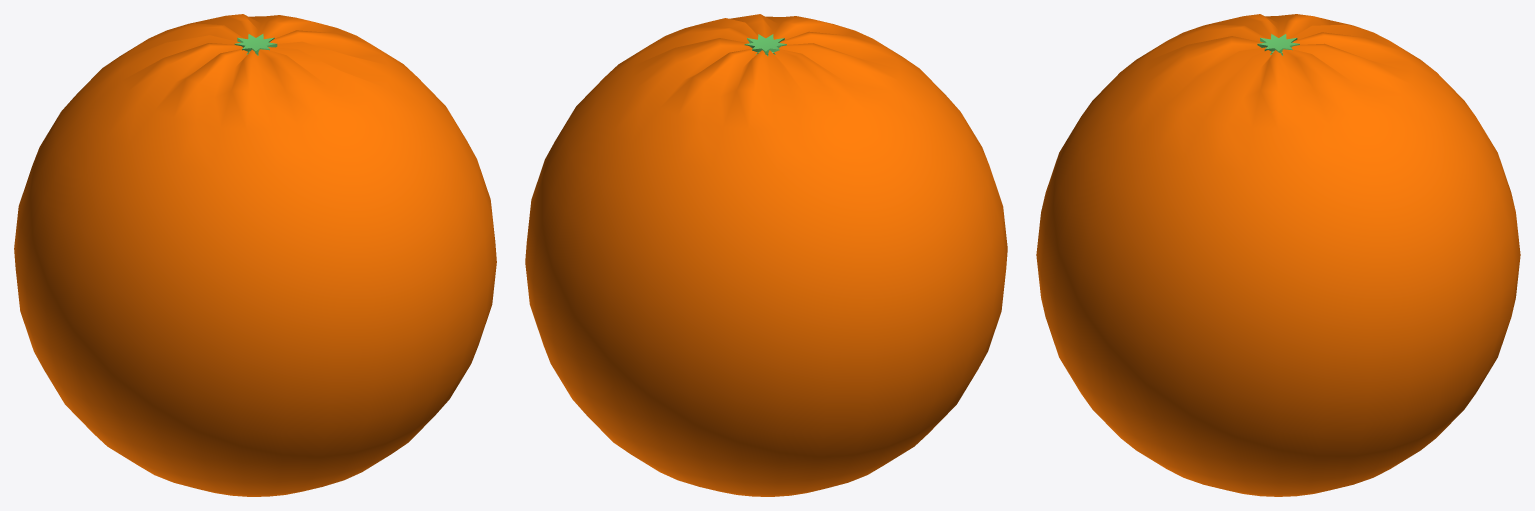
File: Unfinished Orange.FBX
The picture shows the model from 3 angles, left to right: view 1: azimuth 30°, elevation 25°; view 2: azimuth 150°, elevation 25°; view 3: azimuth 270°, elevation 25°; orthographic projection.
Parts seen in each view (by area): view 1: Sphere001; view 2: Sphere001; view 3: Sphere001.
Boxes of the visible parts, <box> form: Sphere001: <box>14,14,496,496</box>; Sphere001: <box>525,14,1007,496</box>; Sphere001: <box>1036,14,1520,496</box>.
Size of the model in its own units: 64.98 by 64.35 by 64.98.
